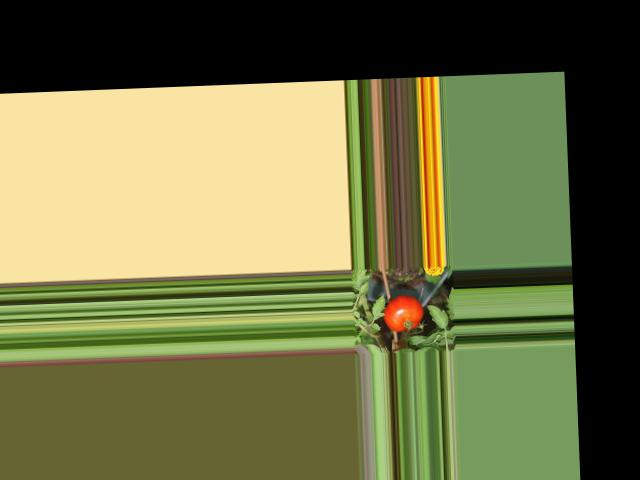tomato: (381, 294, 424, 332)
